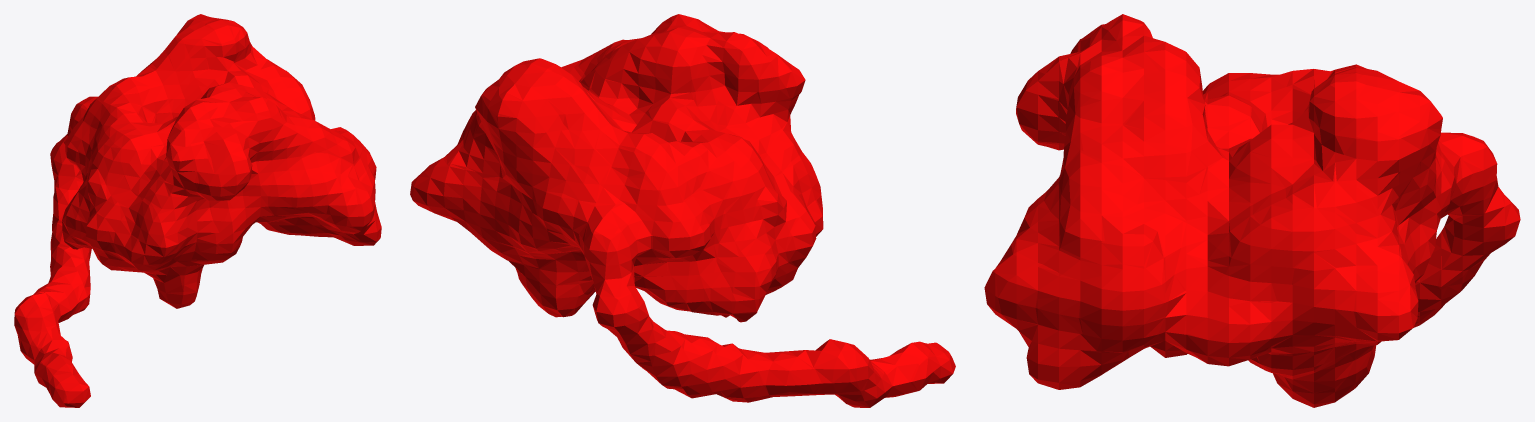
The model's file is pqiB_coarse.dae.
The picture shows the model from 3 angles, left to right: view 1: azimuth 30°, elevation 25°; view 2: azimuth 150°, elevation 25°; view 3: azimuth 270°, elevation 25°; orthographic projection. The views are drawn at different scales.
Visible parts, largest first — view 1: pqiB; view 2: pqiB; view 3: pqiB.
Part boxes in pixels (x1,y1,x2,y2): pqiB: (14, 14, 381, 407); pqiB: (410, 14, 955, 407); pqiB: (984, 14, 1520, 407).
Bounding box in the file's own units: 92.47 × 68.62 × 79.47.
